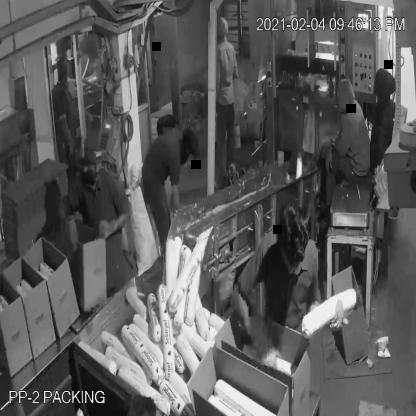glove: (234, 284, 282, 378), (305, 292, 354, 341)
no_glove: (52, 200, 84, 260), (96, 200, 135, 246), (56, 113, 76, 157), (322, 137, 342, 177)
